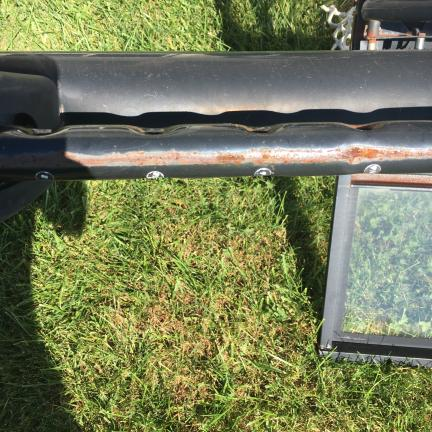besi_tidak_karat: (0, 51, 431, 116)
karat: (2, 143, 431, 173)
